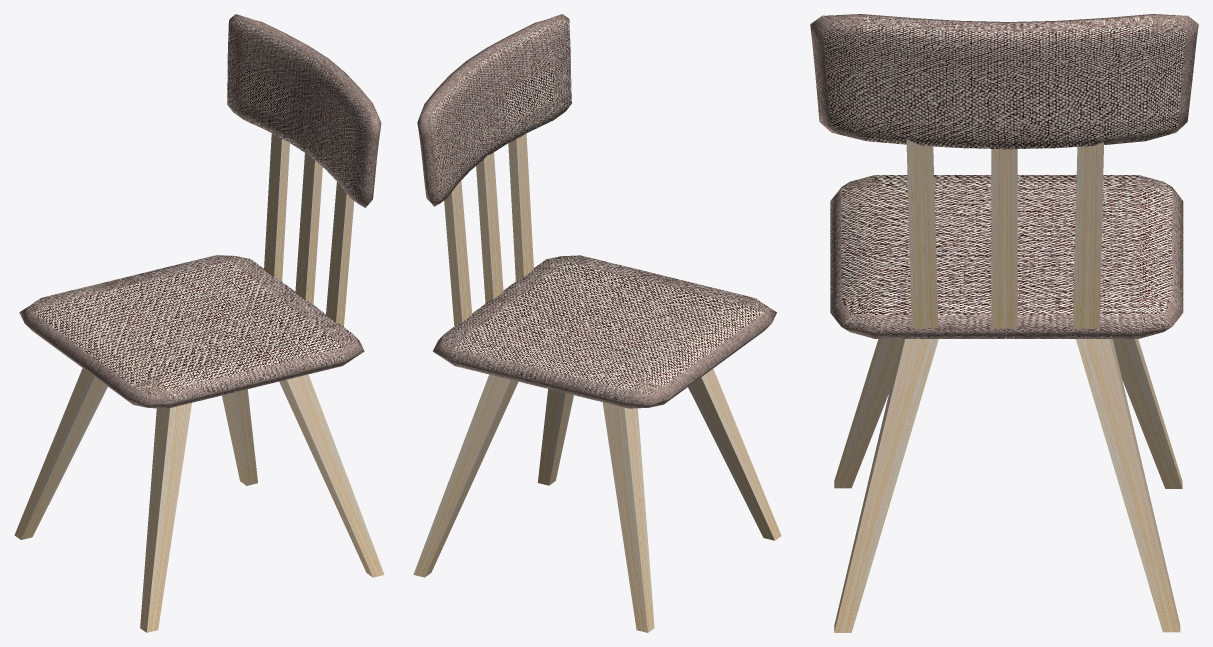
The model's file is chair.FBX.
The picture shows the model from 3 angles, left to right: view 1: azimuth 30°, elevation 25°; view 2: azimuth 150°, elevation 25°; view 3: azimuth 270°, elevation 25°; orthographic projection. The views are drawn at different scales.
Parts seen in each view (by area): view 1: Box010; view 2: Box010; view 3: Box010.
Part boxes in pixels (x1=…): Box010: x1=14, y1=14, x2=384, y2=632; Box010: x1=413, y1=14, x2=781, y2=632; Box010: x1=810, y1=14, x2=1198, y2=632.
Bounding box in the file's own units: 21.93 × 38.27 × 22.02.
